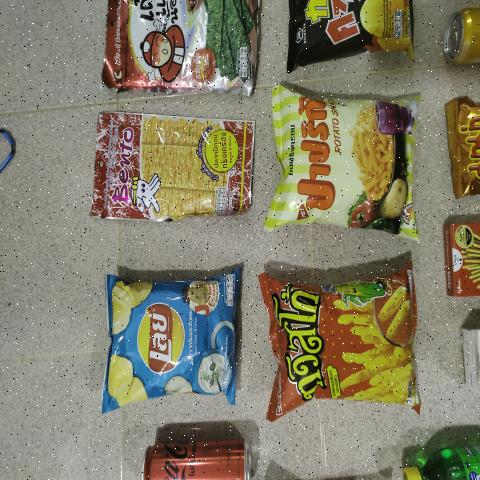bento_red: (99, 114, 258, 218)
coke_red: (141, 434, 256, 480)
lay_blue: (112, 278, 234, 394)
paprika: (278, 92, 420, 240)
taokaenoi: (102, 0, 258, 88)
twisco: (266, 265, 428, 404)
